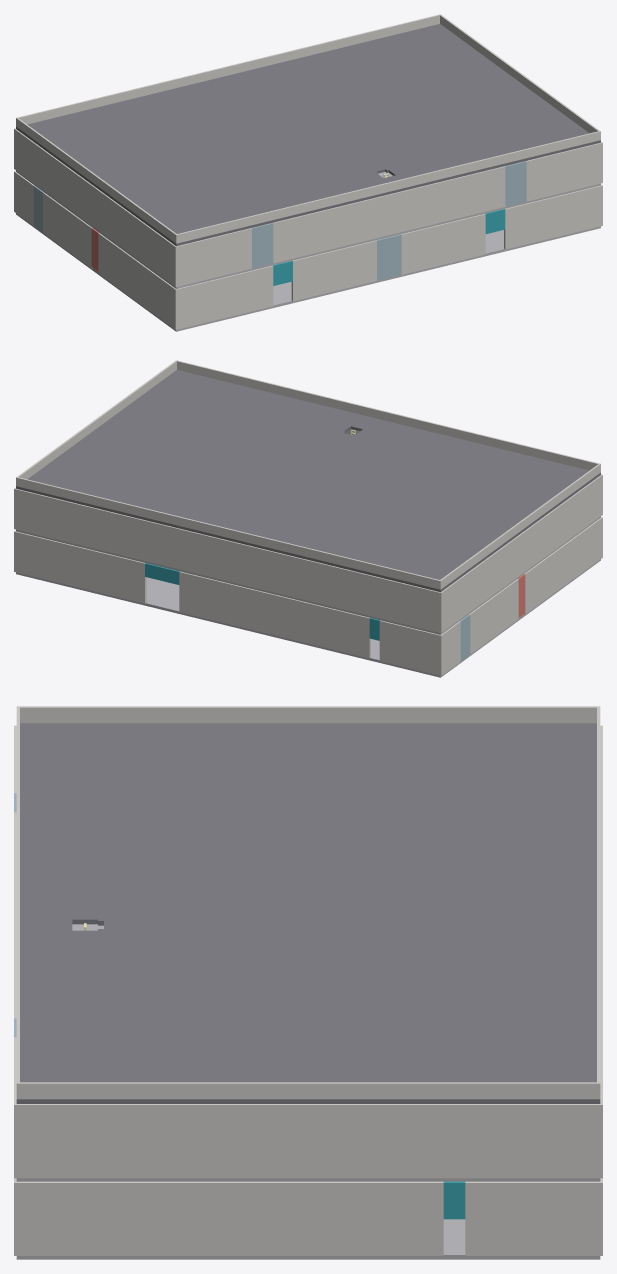
File: stadium_a04.glb
3 renders of one model, top to bottom at view 1: azimuth 30°, elevation 25°; view 2: azimuth 150°, elevation 25°; view 3: azimuth 270°, elevation 25°, orthographic. The views are drawn at different scales.
Parts seen in each view (by area): view 1: slab_2_t1_5, slab_2_t1_6, slab_2_t4_5, slab_2_t5_3, slab_2_t5_5, slab_2_t1_1, slab_2_t1_3, slab_2_t1_8, slab_2_t1_9, slab_2_t2_1, slab_2_t2_4, slab_2_t2_5 (+116 smaller); view 2: slab_2_t1_3, slab_2_t2_5, slab_2_t1_7, slab_2_t1_8, slab_2_t2_1, slab_2_t2_3, slab_2_t2_4, slab_2_t2_7, slab_2_t2_9, slab_2_t3_2, slab_2_t3_4, slab_2_t3_6 (+118 smaller); view 3: slab_2_t3_1, slab_2_t3_5, slab_2_t3_8, slab_2_t3_2, slab_2_t3_3, slab_2_t3_4, slab_2_t3_6, slab_2_t3_7, slab_2_t3_9, slab_2_t1_1, slab_2_t1_8, slab_2_t2_1 (+115 smaller).
Boxes of the visible parts, left/top/right/bottom form: slab_2_t1_5: left=324, top=154, right=383, bottom=179; slab_2_t1_6: left=362, top=144, right=422, bottom=172; slab_2_t4_5: left=255, top=103, right=315, bottom=129; slab_2_t5_3: left=155, top=105, right=215, bottom=131; slab_2_t5_5: left=232, top=86, right=292, bottom=112; slab_2_t1_1: left=169, top=191, right=230, bottom=217; slab_2_t1_3: left=247, top=172, right=307, bottom=198; slab_2_t1_8: left=439, top=125, right=500, bottom=151; slab_2_t1_9: left=478, top=116, right=539, bottom=141; slab_2_t2_1: left=146, top=174, right=207, bottom=200; slab_2_t2_4: left=262, top=146, right=322, bottom=172; slab_2_t2_5: left=301, top=137, right=361, bottom=162; slab_2_t1_3: left=401, top=451, right=461, bottom=477; slab_2_t2_5: left=301, top=449, right=361, bottom=475; slab_2_t1_7: left=246, top=414, right=307, bottom=439; slab_2_t1_8: left=208, top=404, right=268, bottom=430; slab_2_t2_1: left=455, top=487, right=516, bottom=513; slab_2_t2_3: left=378, top=468, right=438, bottom=494; slab_2_t2_4: left=339, top=459, right=400, bottom=484; slab_2_t2_7: left=224, top=430, right=284, bottom=456; slab_2_t2_9: left=146, top=411, right=207, bottom=437; slab_2_t3_2: left=394, top=494, right=454, bottom=520; slab_2_t3_4: left=317, top=475, right=377, bottom=501; slab_2_t3_6: left=239, top=457, right=300, bottom=482; slab_2_t3_1: left=266, top=756, right=350, bottom=790; slab_2_t3_5: left=266, top=893, right=350, bottom=927; slab_2_t3_8: left=266, top=996, right=350, bottom=1030; slab_2_t3_2: left=266, top=790, right=350, bottom=824; slab_2_t3_3: left=266, top=825, right=350, bottom=859; slab_2_t3_4: left=266, top=859, right=350, bottom=893; slab_2_t3_6: left=266, top=927, right=350, bottom=961; slab_2_t3_7: left=266, top=962, right=350, bottom=996; slab_2_t3_9: left=266, top=1030, right=350, bottom=1064; slab_2_t1_1: left=100, top=756, right=183, bottom=790; slab_2_t1_8: left=100, top=996, right=183, bottom=1030; slab_2_t2_1: left=183, top=756, right=266, bottom=790.
Size of what is drawn, in the model's own units: 52.3 by 11.3 by 34.3.
